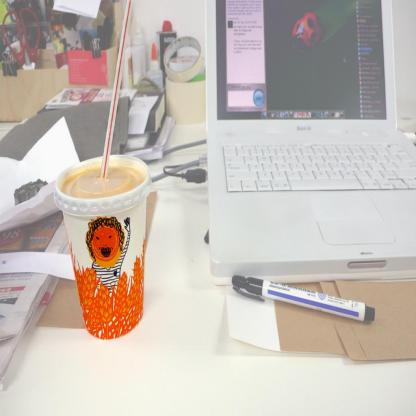board: (202, 1, 416, 288), (55, 154, 148, 340), (2, 6, 41, 68), (132, 19, 145, 84), (122, 36, 134, 88), (150, 40, 158, 68)
